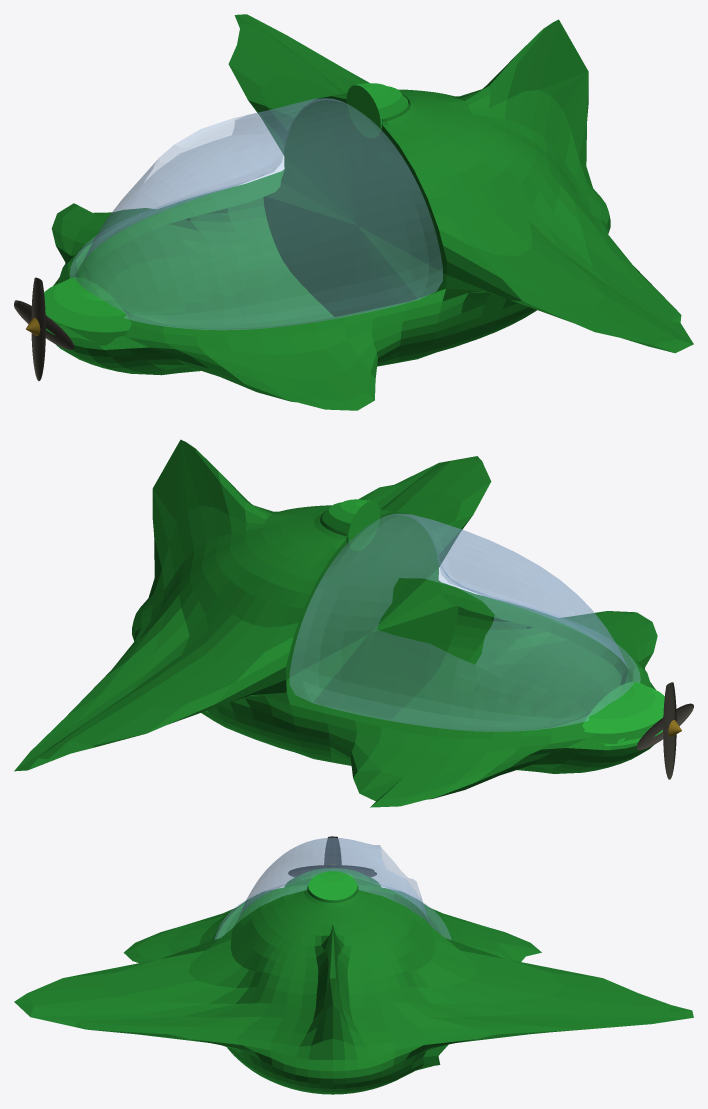
The model's file is Plane2MinorDamage.fbx.
The picture shows the model from 3 angles, top to bottom: view 1: azimuth 30°, elevation 25°; view 2: azimuth 150°, elevation 25°; view 3: azimuth 270°, elevation 25°; orthographic projection. The views are drawn at different scales.
Visible parts, largest first — view 1: Cockpit, Canopy, Nose, Inlet, Propeler1, Propeler2; view 2: Cockpit, Canopy, Nose, Inlet, Propeler1, Propeler2; view 3: Cockpit, Canopy, Inlet, Nose, Propeler2, Propeler1.
Part boxes in pixels (box(x1,y1,x2,y2)): Cockpit: box(46, 14, 693, 410); Canopy: box(70, 98, 442, 329); Nose: box(44, 277, 131, 345); Inlet: box(346, 83, 408, 138); Propeler1: box(31, 277, 45, 380); Propeler2: box(14, 300, 74, 349); Cockpit: box(14, 439, 663, 807); Canopy: box(290, 513, 640, 731); Nose: box(582, 682, 664, 745); Inlet: box(321, 499, 380, 551); Propeler1: box(663, 682, 676, 779); Propeler2: box(636, 703, 693, 750); Cockpit: box(14, 885, 693, 1094); Canopy: box(214, 837, 451, 939); Inlet: box(308, 871, 357, 900); Nose: box(284, 868, 381, 886); Propeler2: box(288, 865, 376, 877); Propeler1: box(324, 836, 341, 864).
Bounding box in the file's own units: 461 × 200 × 644.
